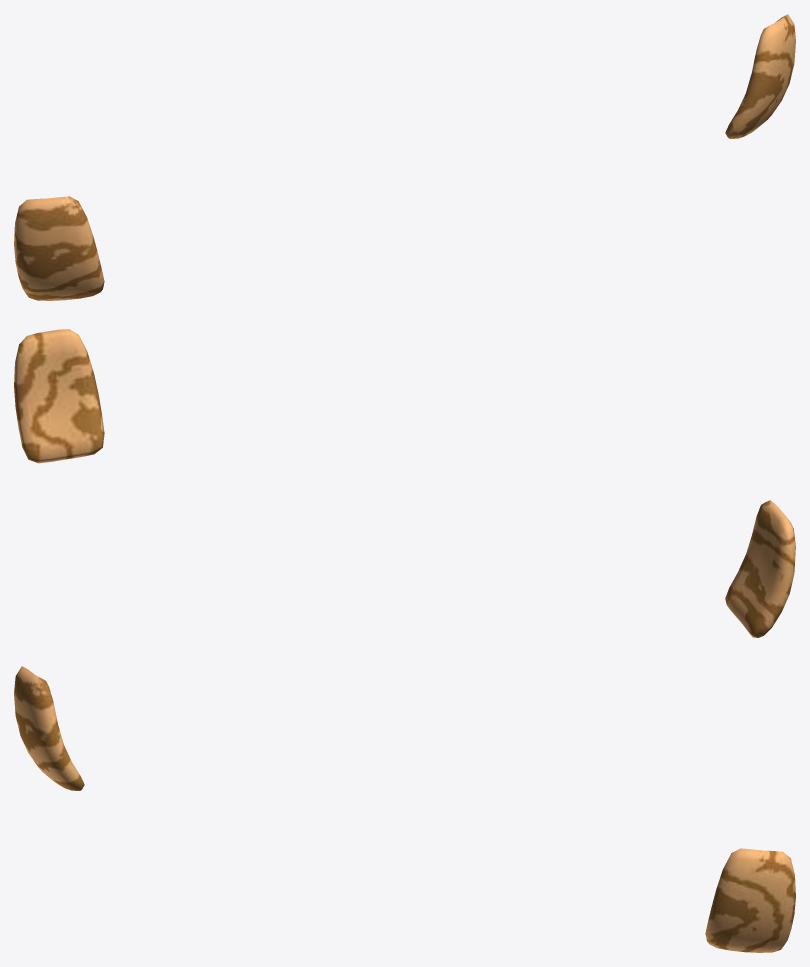
The model's file is earings3.glb.
The picture shows the model from 3 angles, top to bottom: view 1: azimuth 30°, elevation 25°; view 2: azimuth 150°, elevation 25°; view 3: azimuth 330°, elevation 25°; orthographic projection.
Visible parts, largest first — view 1: earrings.003; view 2: earrings.003; view 3: earrings.003.
Boxes of the visible parts, bbox=[...] form: earrings.003: bbox=[14, 14, 795, 300]; earrings.003: bbox=[14, 329, 795, 637]; earrings.003: bbox=[14, 666, 795, 952].
Size of the model in its own units: 1.42 by 0.206 by 0.1095.
Materials: 1 (1 with a texture image).
